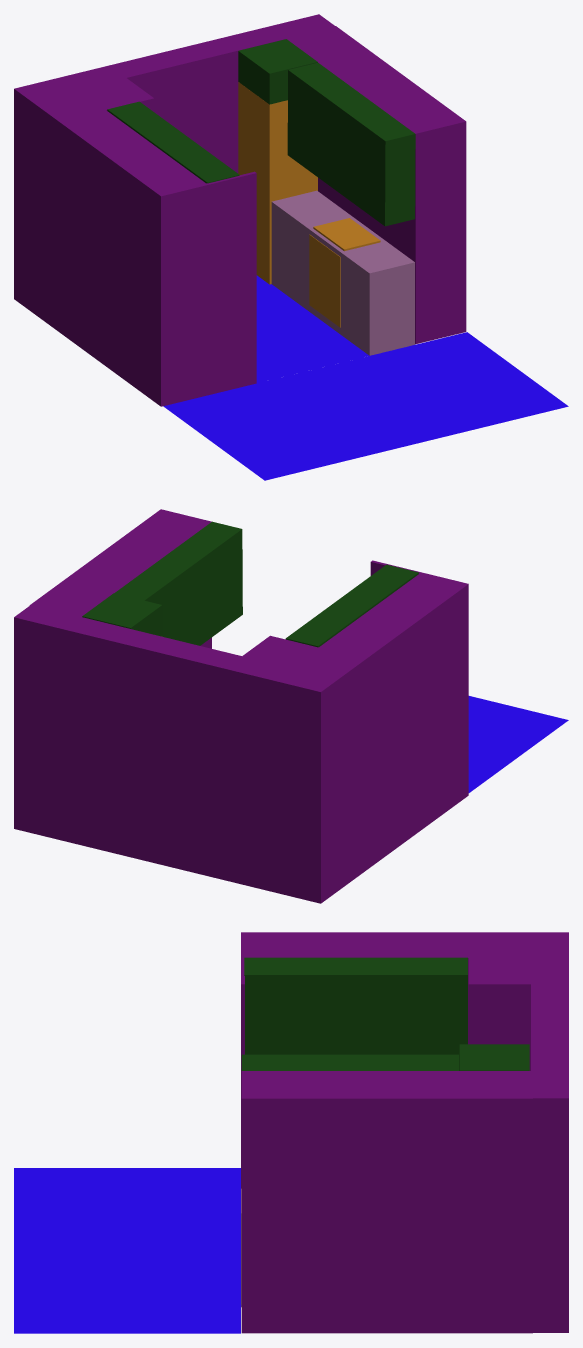
The model's file is cuisine_03.fbx.
The picture shows the model from 3 angles, top to bottom: view 1: azimuth 30°, elevation 25°; view 2: azimuth 150°, elevation 25°; view 3: azimuth 270°, elevation 25°; orthographic projection. The views are drawn at different scales.
Parts seen in each view (by area): view 1: mur (×3), sol (×2), meuble (×3), frigo, meuble_surFrigo, four, plaques; view 2: mur (×2), meuble (×2), sol, meuble_surFrigo; view 3: mur (×3), sol, meuble (×2), meuble_surFrigo.
Part boxes in pixels (x1,y1,x2,y2): mur (×3): (14, 14, 466, 406); sol (×2): (163, 275, 568, 480); meuble (×3): (107, 62, 415, 355); frigo: (238, 82, 317, 284); meuble_surFrigo: (238, 39, 317, 104); four: (309, 234, 340, 327); plaques: (313, 218, 380, 251); mur (×2): (14, 509, 468, 903); meuble (×2): (114, 521, 418, 647); sol: (468, 696, 568, 792); meuble_surFrigo: (82, 593, 162, 636); mur (×3): (241, 932, 568, 1333); sol: (14, 1168, 240, 1333); meuble (×2): (241, 957, 467, 1070); meuble_surFrigo: (459, 1044, 529, 1070).
Bounding box in the file's own units: 150 × 99.59 × 211.
